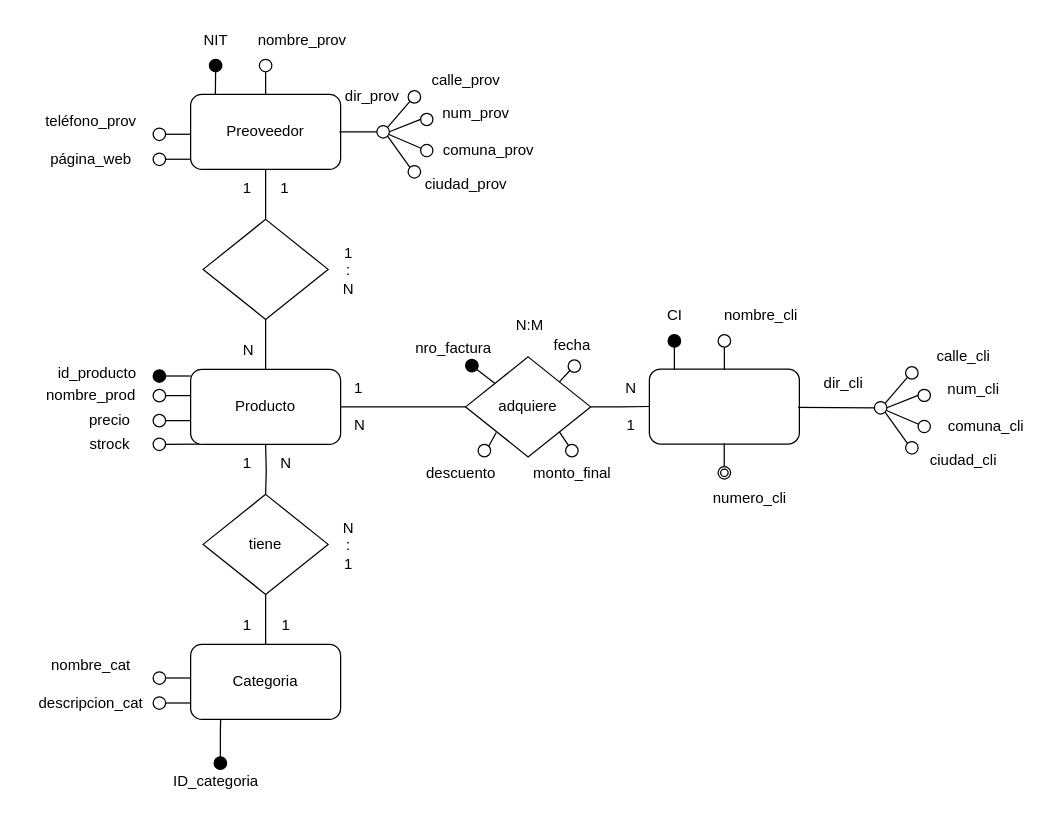
This 1056x821 diagram has some shape labels left out. Here are the shapes that lost their labels. From the top down, the centre of each, then its label:
At (x=265, y=268): "comercializa".
At (x=723, y=406): "Cliente".
